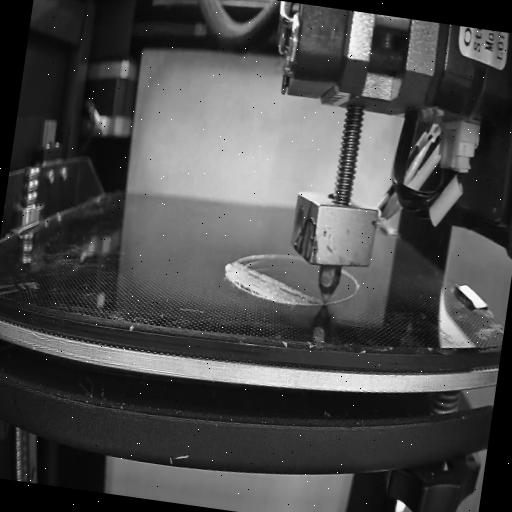under_extrusion: (234, 246, 276, 280), (274, 280, 318, 310), (226, 278, 268, 306)
